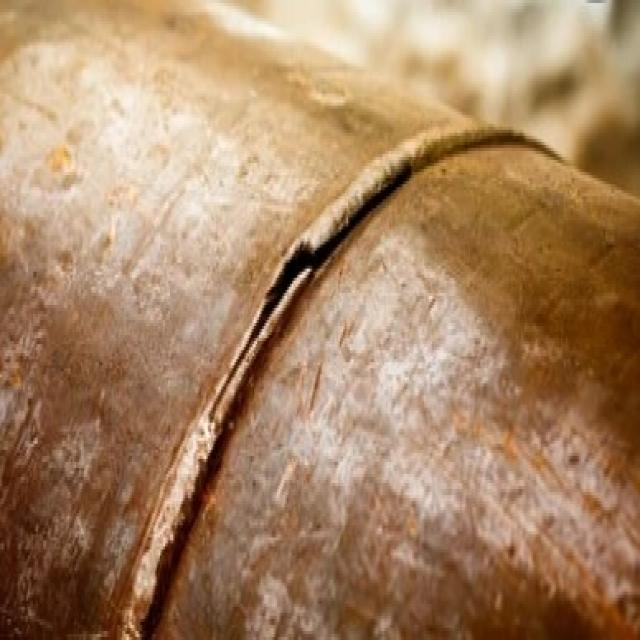Defect: (203, 236, 322, 420)
